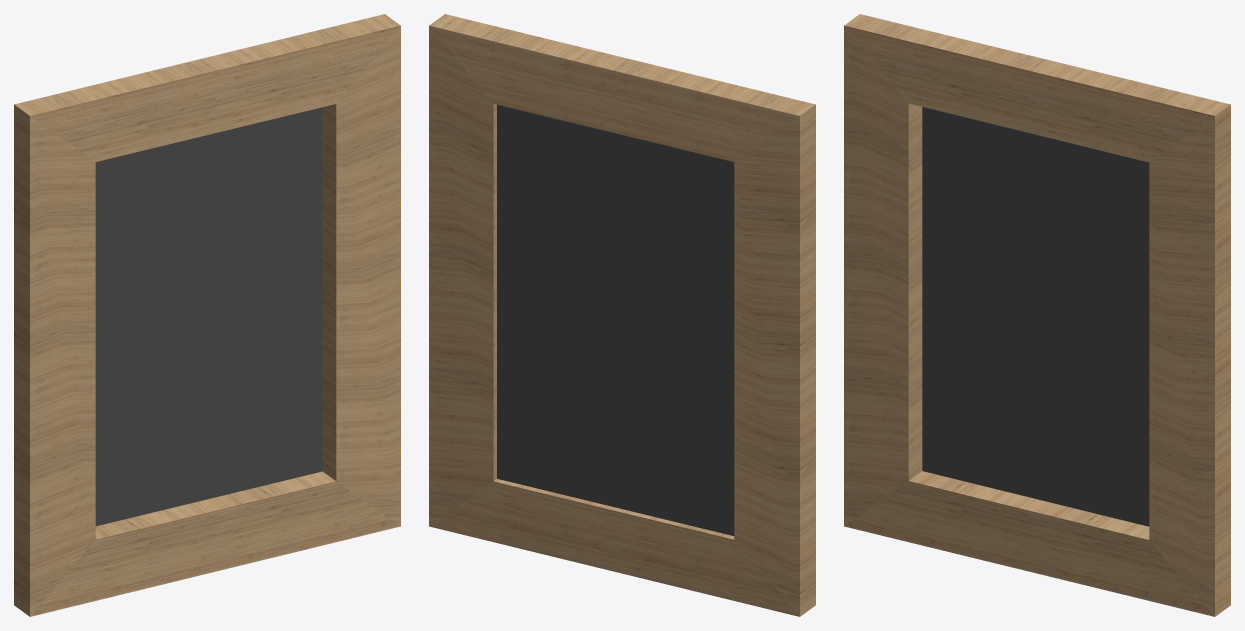
The model's file is smallmirror.fbx.
3 views of the same model, side by side, from view 1: azimuth 30°, elevation 25°; view 2: azimuth 150°, elevation 25°; view 3: azimuth 330°, elevation 25° (orthographic).
Visible parts, largest first — view 1: polySurface2568; view 2: polySurface2568; view 3: polySurface2568.
Part boxes in pixels (box(x1,y1,x2,y2)): polySurface2568: box(14, 14, 400, 616); polySurface2568: box(429, 14, 815, 616); polySurface2568: box(844, 14, 1230, 616).
Bounding box in the file's own units: 9.7 × 12.52 × 0.7795.
2 materials, 1 textured.
